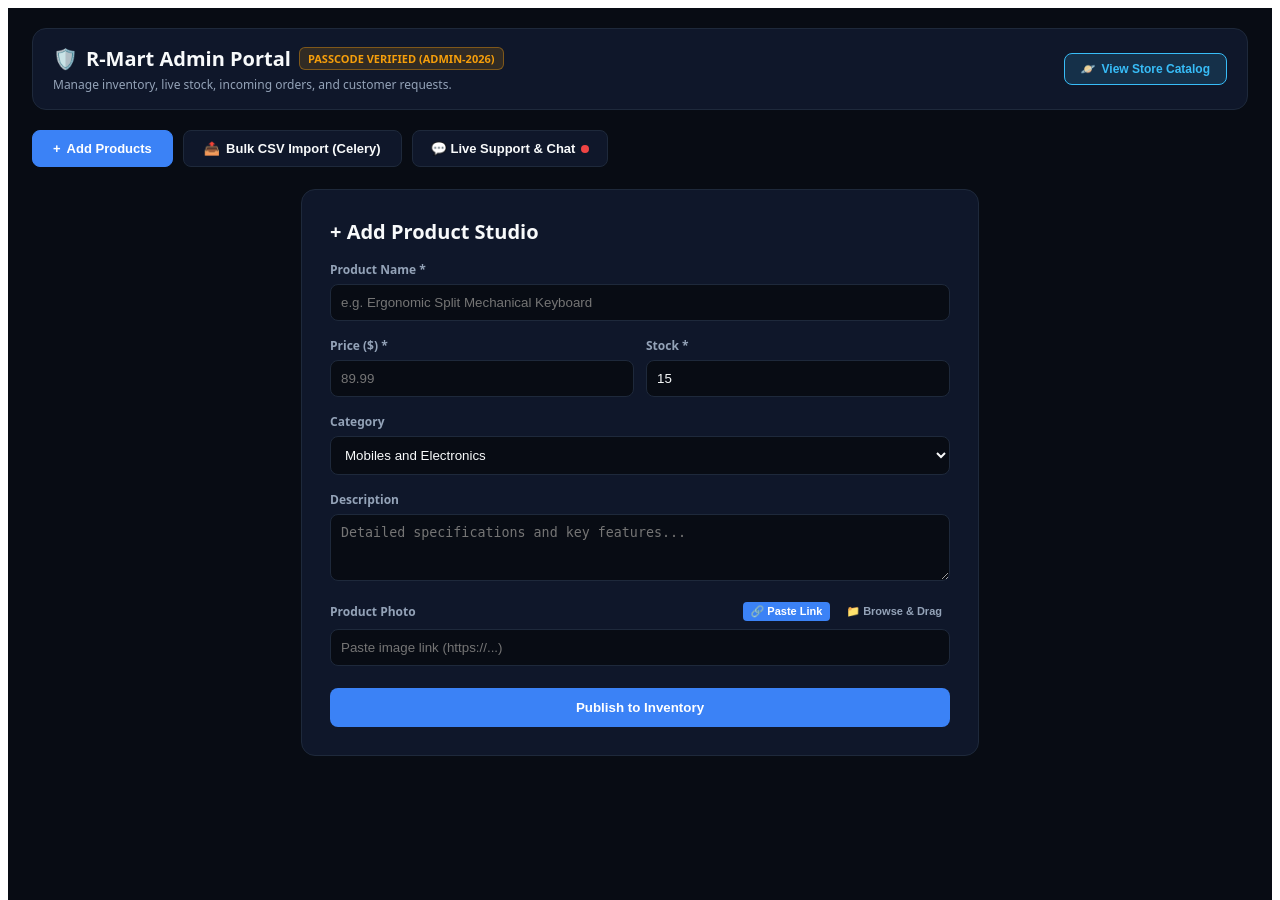
Scenario: Day 18 Frontend: Celery Task Lifecycle, PDF Invoices, Bulk CSV & Advanced Search › AdminDashboard renders Bulk CSV Import tab and starts async task
Click the button with test id "admin-bulk-import-tab": point(292, 148) x1=183 y1=130 x2=402 y2=167
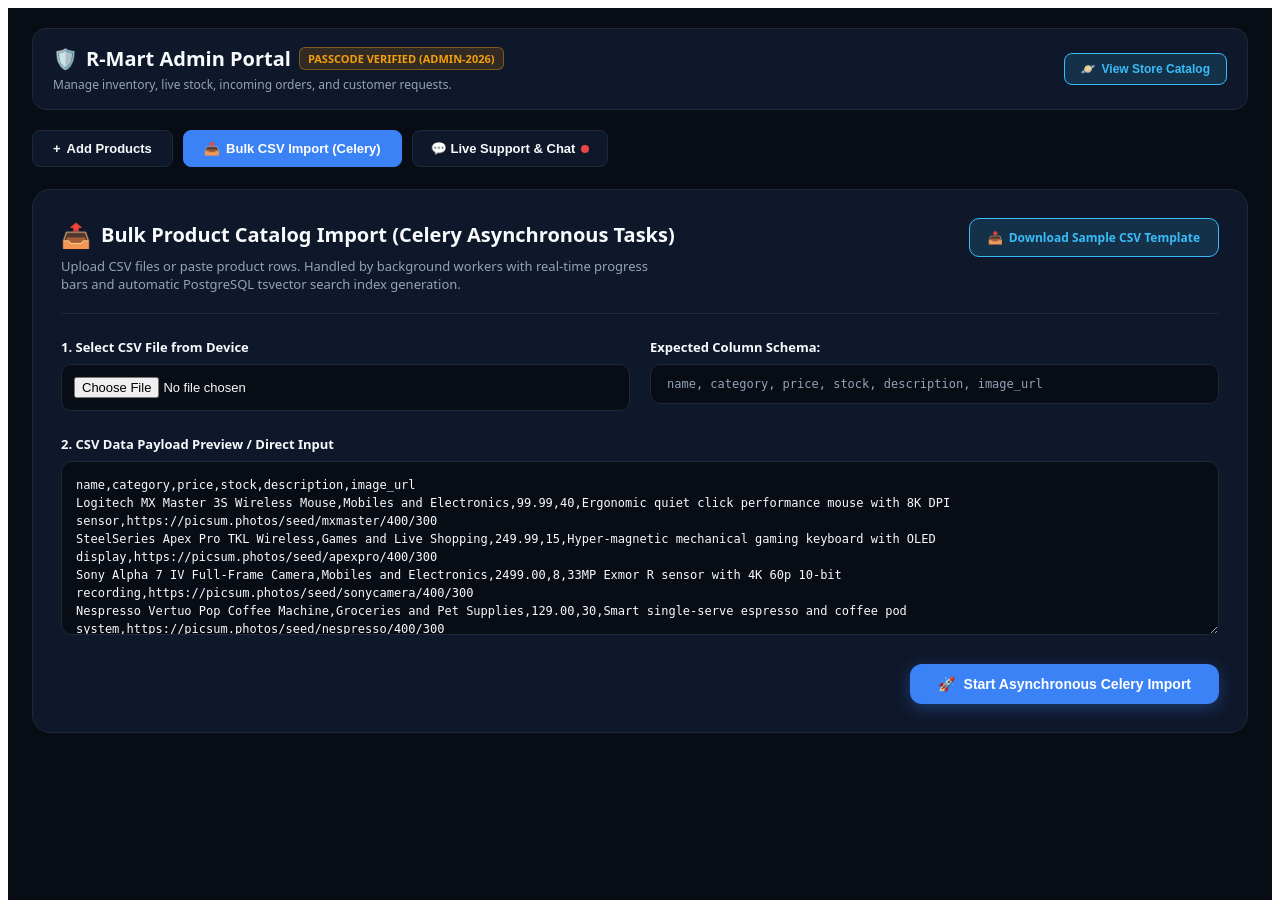
Now the element with test id "admin-bulk-import-container" is shown, box x1=32 y1=189 x2=1248 y2=733
Now the text box with test id "bulk-csv-textarea" is shown, box x1=61 y1=461 x2=1219 y2=635
Now the text "Download Sample CSV Template" is shown, box x1=1009 y1=229 x2=1200 y2=246
# Trigger import
Click the button with test id "start-bulk-import-btn": point(1065, 684) x1=910 y1=664 x2=1219 y2=704
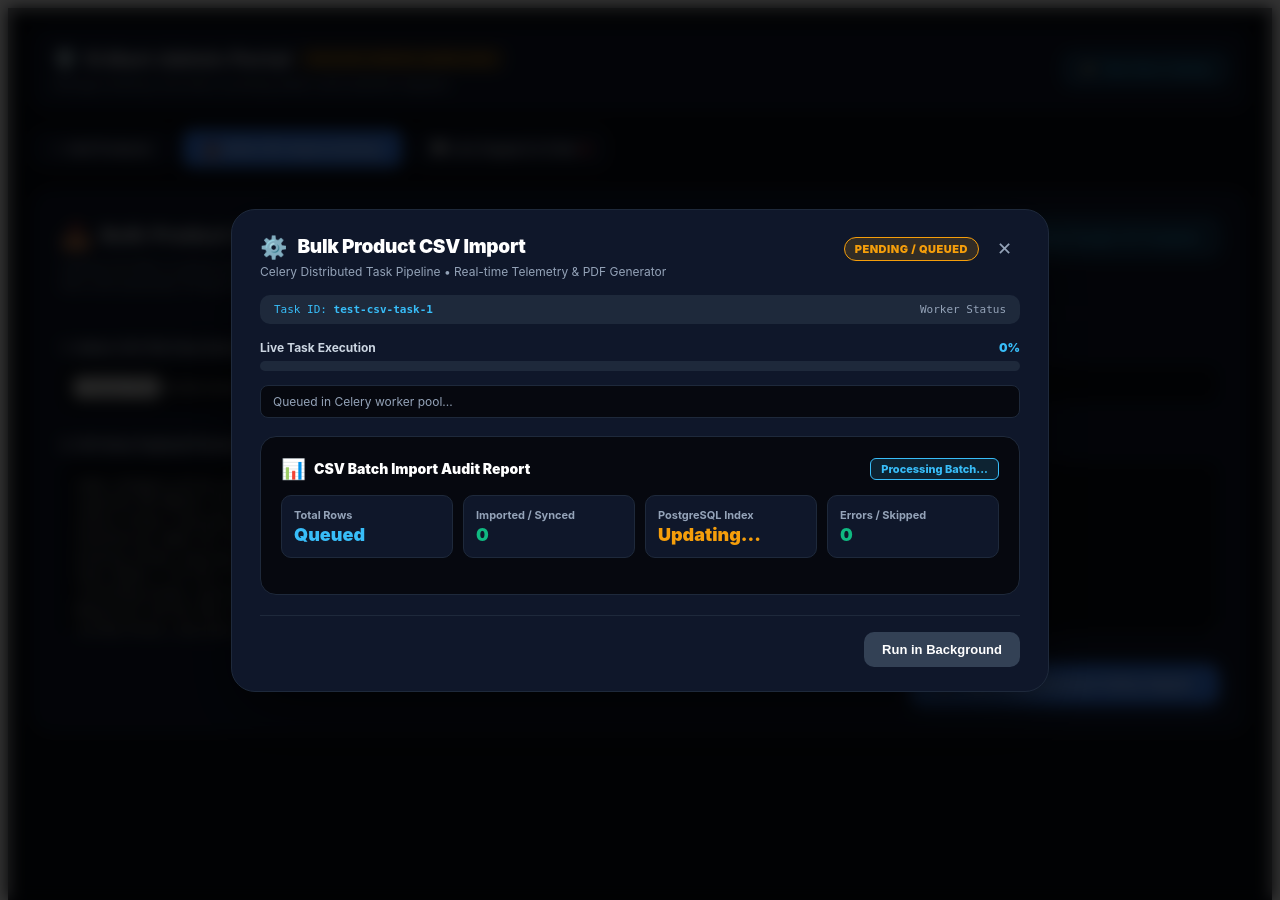
Now the heading "Bulk Product CSV Import" is shown, box x1=298 y1=235 x2=526 y2=258
